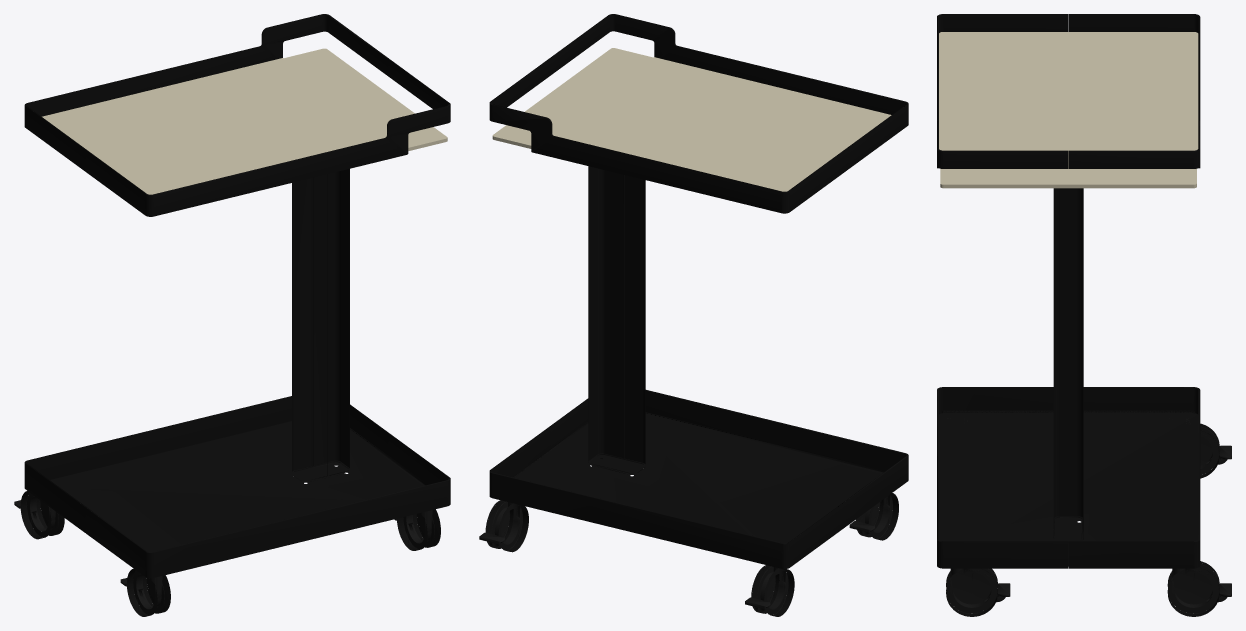
The model's file is rack.fbx.
3 renders of one model, left to right at view 1: azimuth 30°, elevation 25°; view 2: azimuth 150°, elevation 25°; view 3: azimuth 270°, elevation 25°, orthographic. The views are drawn at different scales.
Visible parts, largest first — view 1: transform1; view 2: transform1; view 3: transform1.
Part boxes in pixels (x1=…): transform1: x1=14, y1=14, x2=450, y2=616; transform1: x1=479, y1=14, x2=908, y2=616; transform1: x1=937, y1=14, x2=1231, y2=616.
Bounding box in the file's own units: 14376 × 20295 × 11558.
